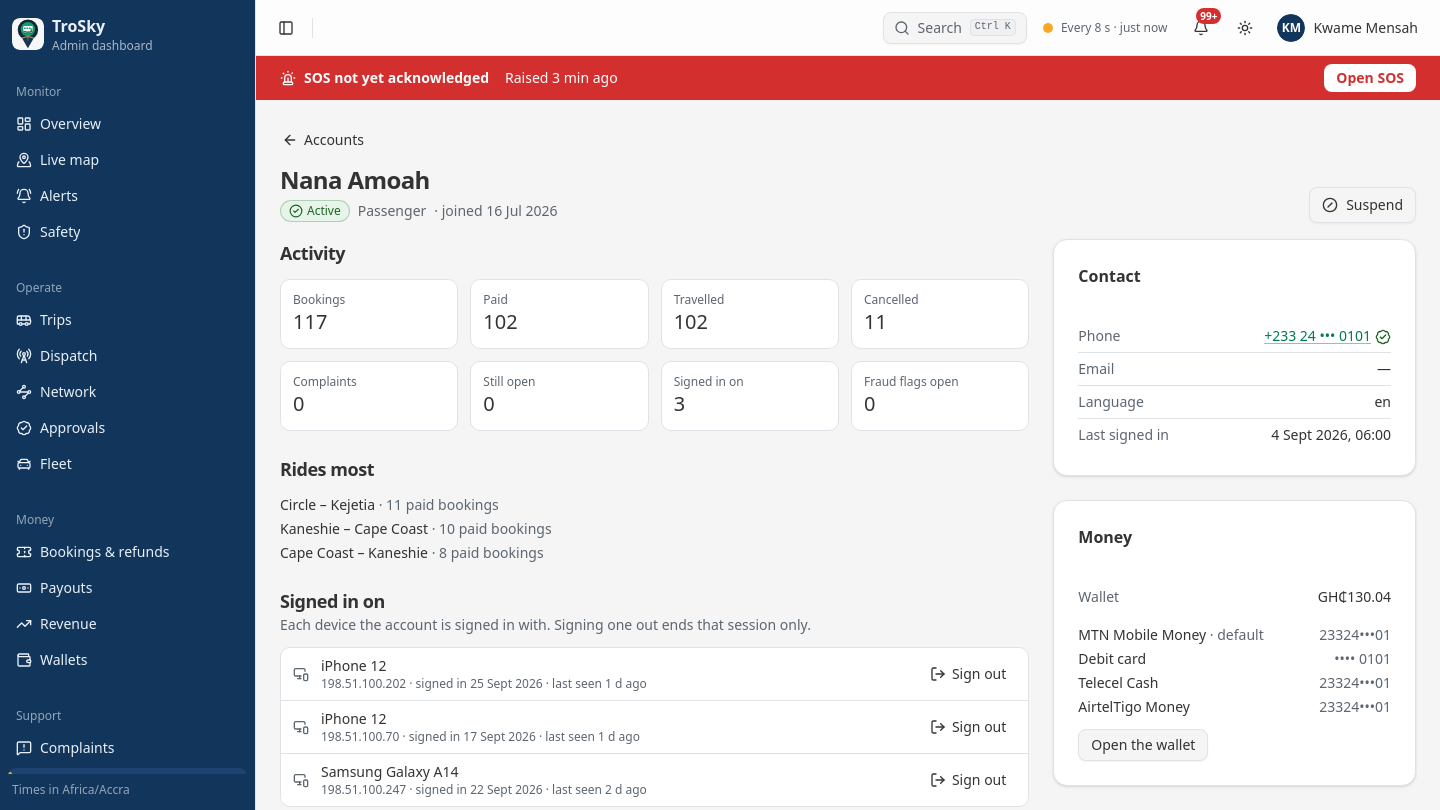
Accounts › are signed out of one device at a time
Click the button "Sign out" in the row of "198.51.100.202": (968, 674) [920,658,1016,690]
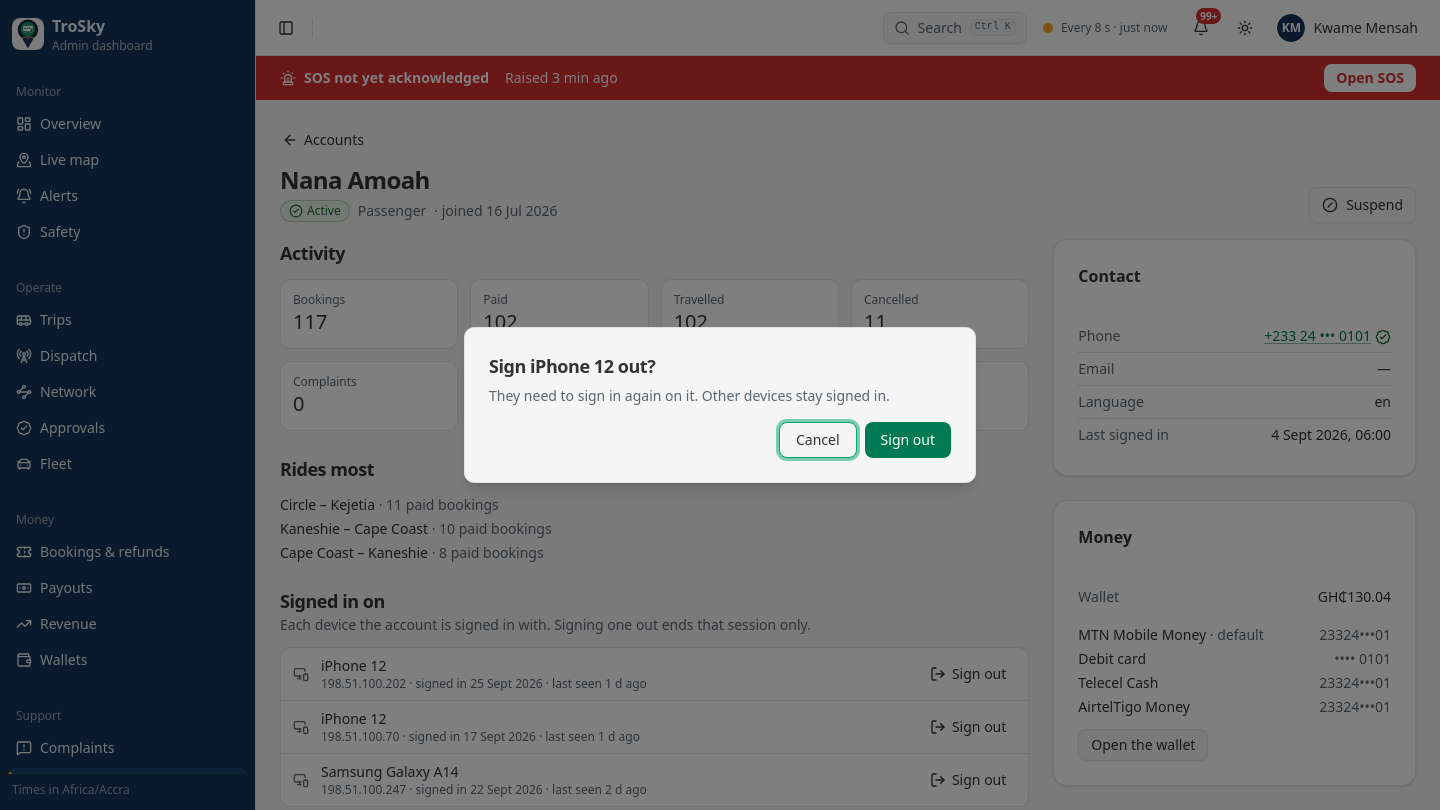
Click the button "Sign out": (908, 440) [865,422,951,458]
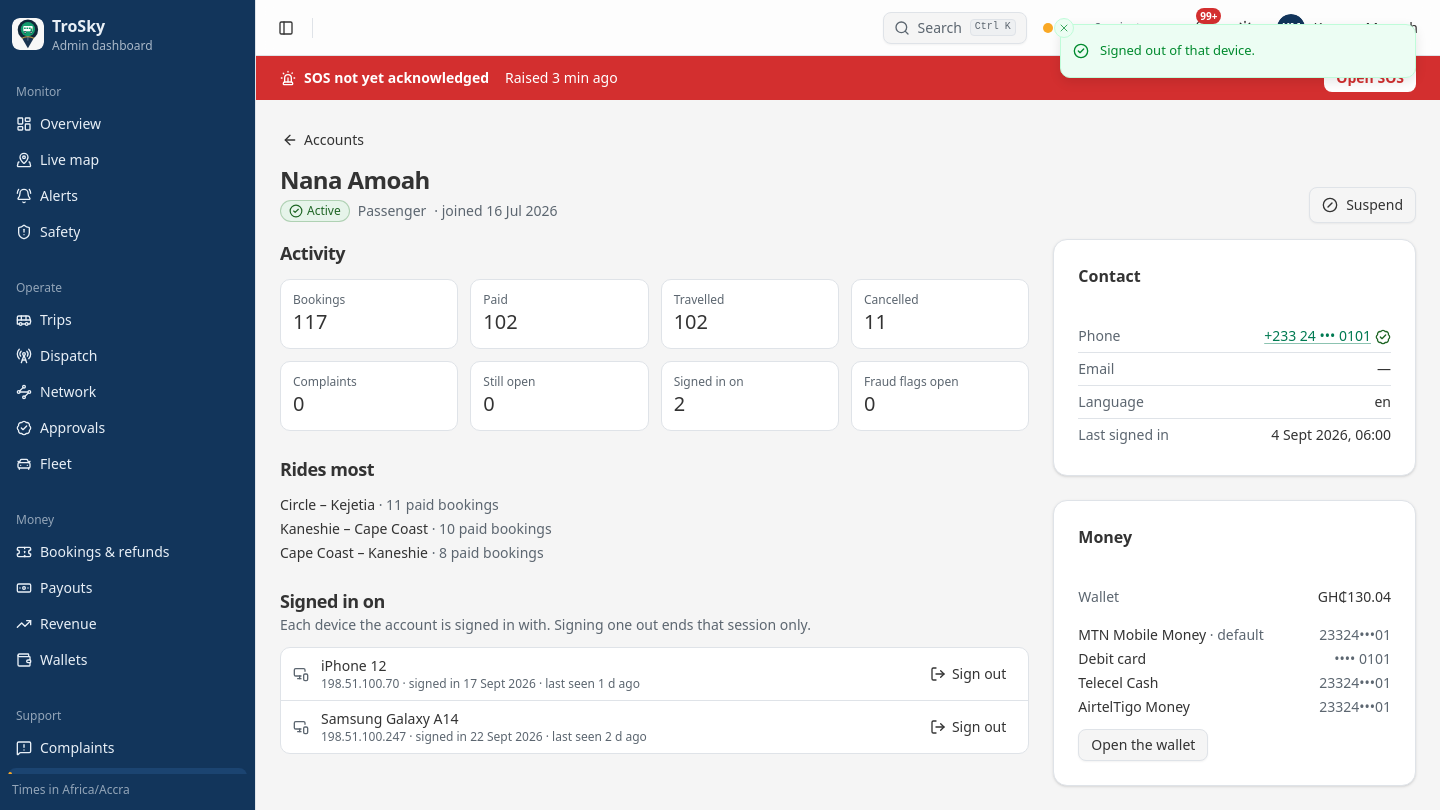
expect the text "Signed out of that device." is shown: met, box [1100,41,1255,60]
expect the number of buttons "Sign out" is 2: met, box [920,658,1016,690]; [920,711,1016,743]
